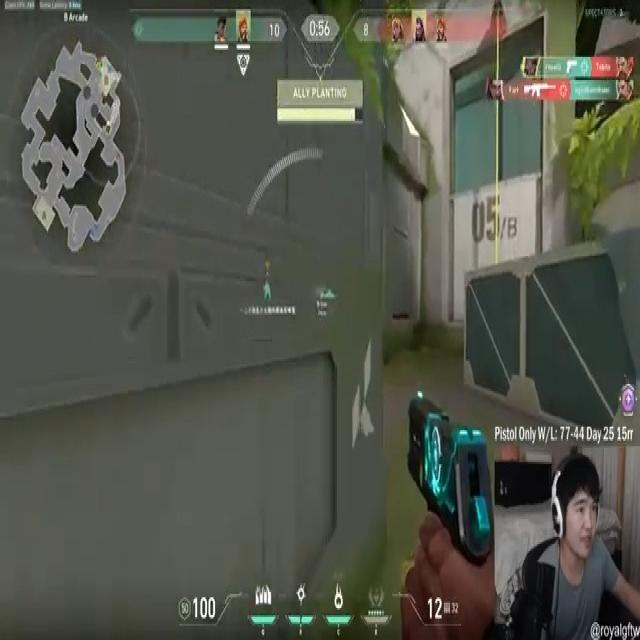ally behind wall: (262, 278, 274, 307)
